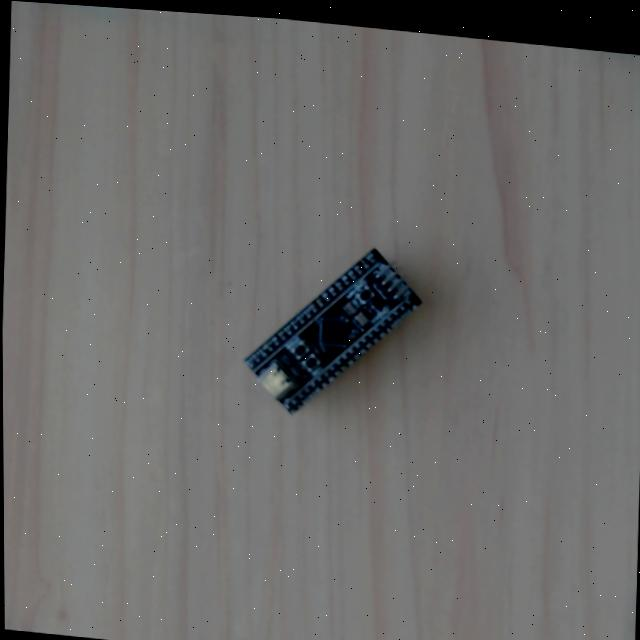STM32-Blackpill: (242, 245, 422, 416)
